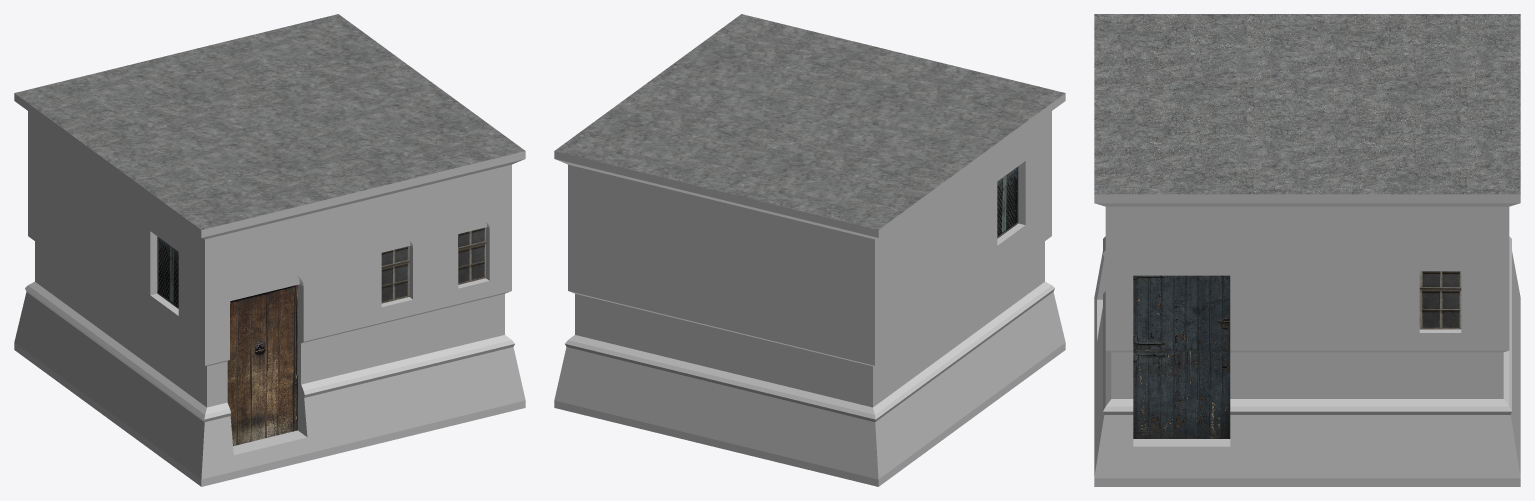
File: Building_Base_07.fbx
The picture shows the model from 3 angles, left to right: view 1: azimuth 30°, elevation 25°; view 2: azimuth 150°, elevation 25°; view 3: azimuth 270°, elevation 25°; orthographic projection. The views are drawn at different scales.
Parts seen in each view (by area): view 1: Building_Base_07; view 2: Building_Base_07; view 3: Building_Base_07.
Boxes of the visible parts, left/top/right/bottom form: Building_Base_07: left=14, top=14, right=525, bottom=486; Building_Base_07: left=554, top=14, right=1065, bottom=486; Building_Base_07: left=1094, top=14, right=1520, bottom=486.
Bounding box in the file's own units: 528 × 400 × 528.
